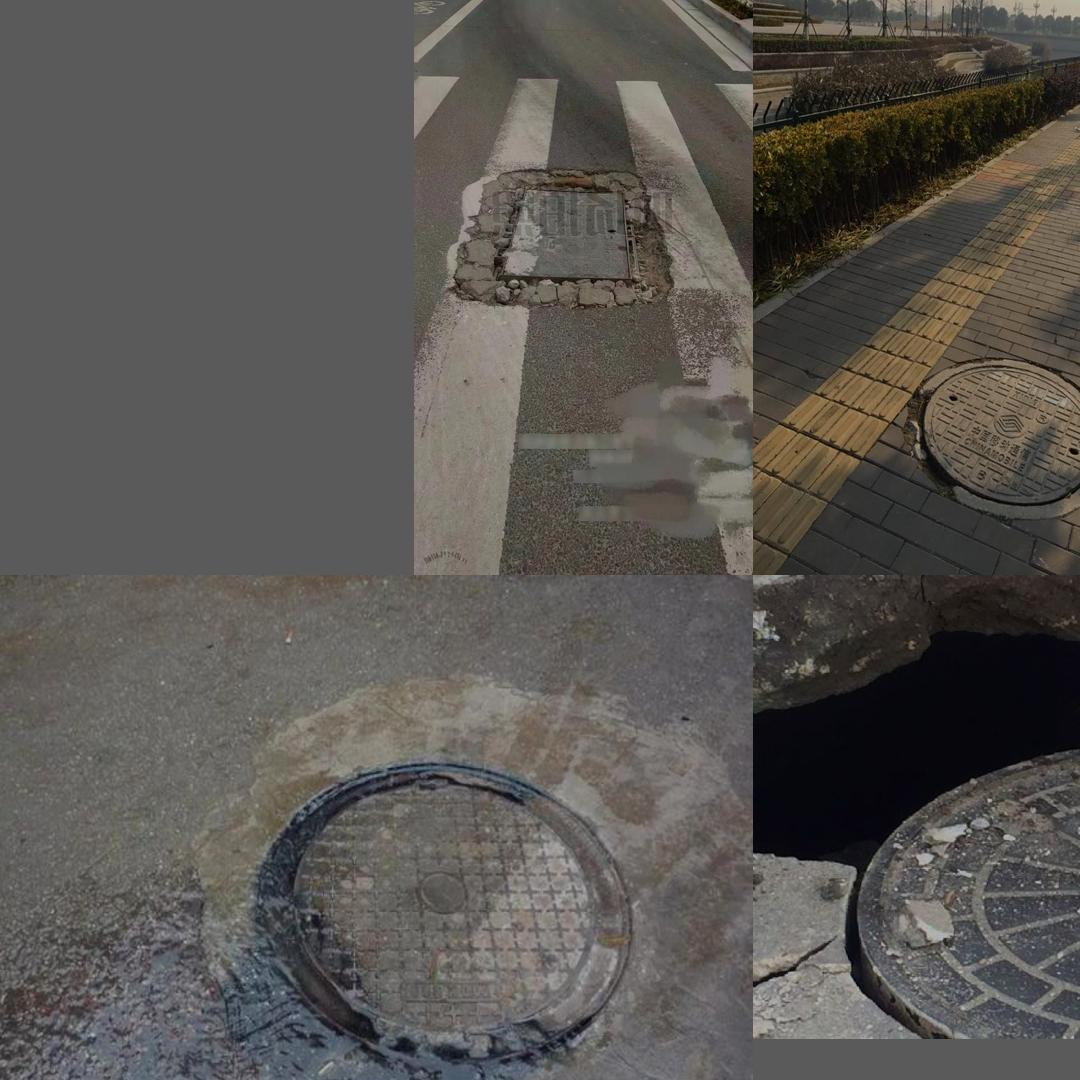circle: (200, 712, 662, 1080), (767, 593, 1080, 1033), (276, 360, 621, 575), (904, 358, 1080, 519)
